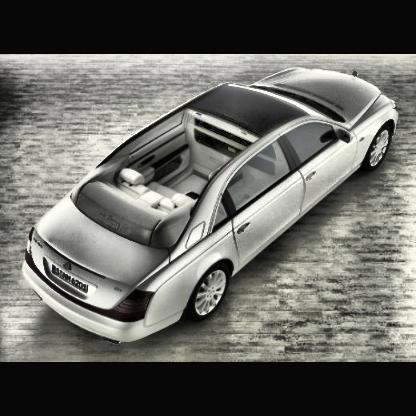Maybach Landaulet Convertible 2012: (22, 65, 400, 347)
